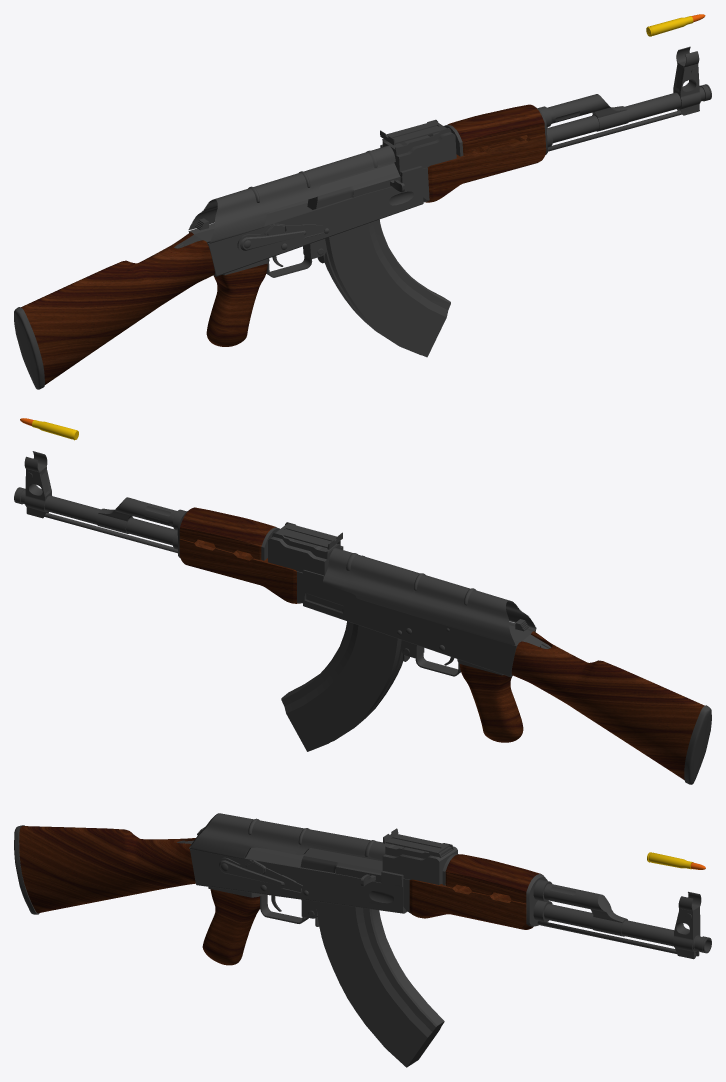
The model's file is AKKA.fbx.
3 views of the same model, one above another, from view 1: azimuth 30°, elevation 25°; view 2: azimuth 150°, elevation 25°; view 3: azimuth 330°, elevation 25° (orthographic).
Parts seen in each view (by area): view 1: Plane.002_Plane.003; view 2: Plane.002_Plane.003; view 3: Plane.002_Plane.003.
Boxes of the visible parts, x1,y1,x2,y2 form: Plane.002_Plane.003: [14, 14, 711, 389]; Plane.002_Plane.003: [14, 418, 711, 784]; Plane.002_Plane.003: [14, 813, 711, 1067].
Bounding box in the file's own units: 413 × 152 × 33.5.
4 materials, 1 textured.
